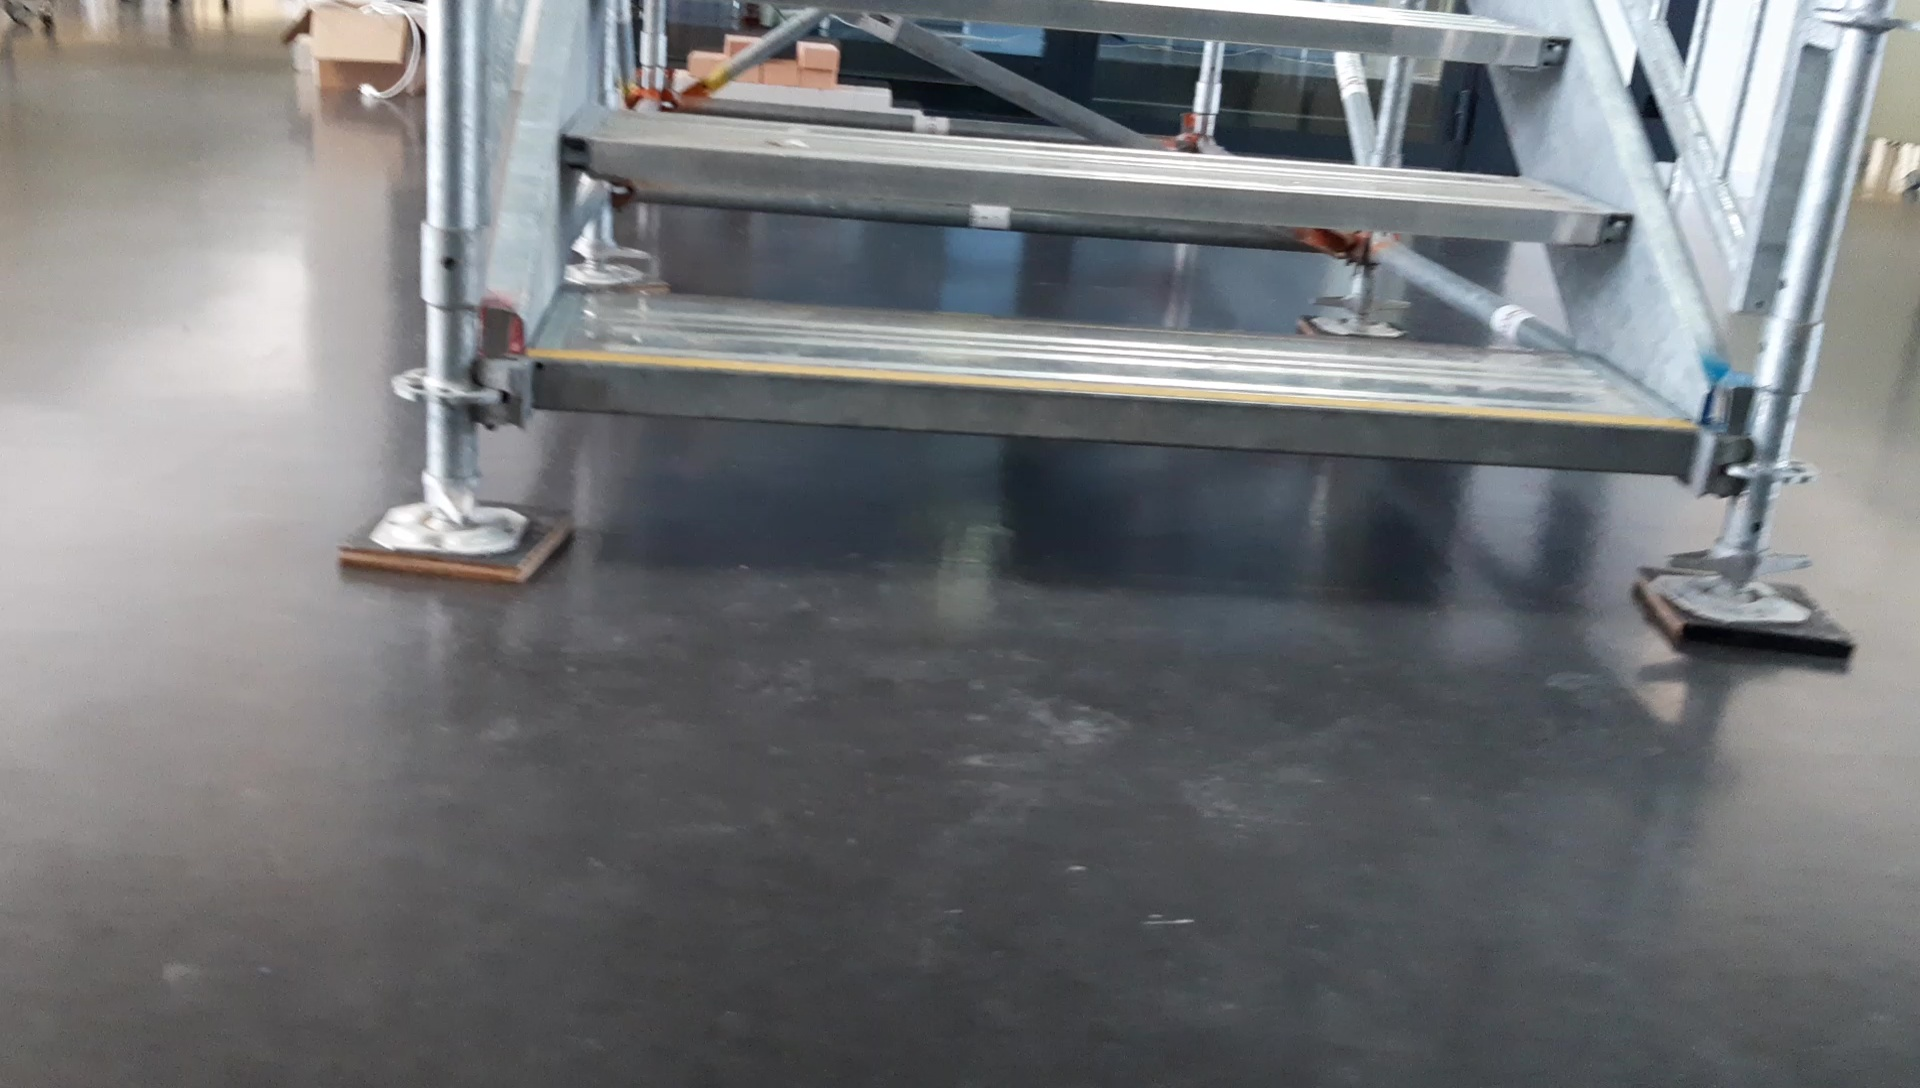brick: (754, 59, 800, 83), (798, 42, 835, 65), (862, 86, 891, 111), (833, 87, 862, 109), (800, 67, 835, 86), (803, 87, 832, 108), (688, 55, 723, 73), (764, 86, 800, 102), (727, 80, 757, 98)
edge: (530, 351, 1692, 473), (564, 135, 1633, 245)
stairs: (335, 3, 1855, 662)
